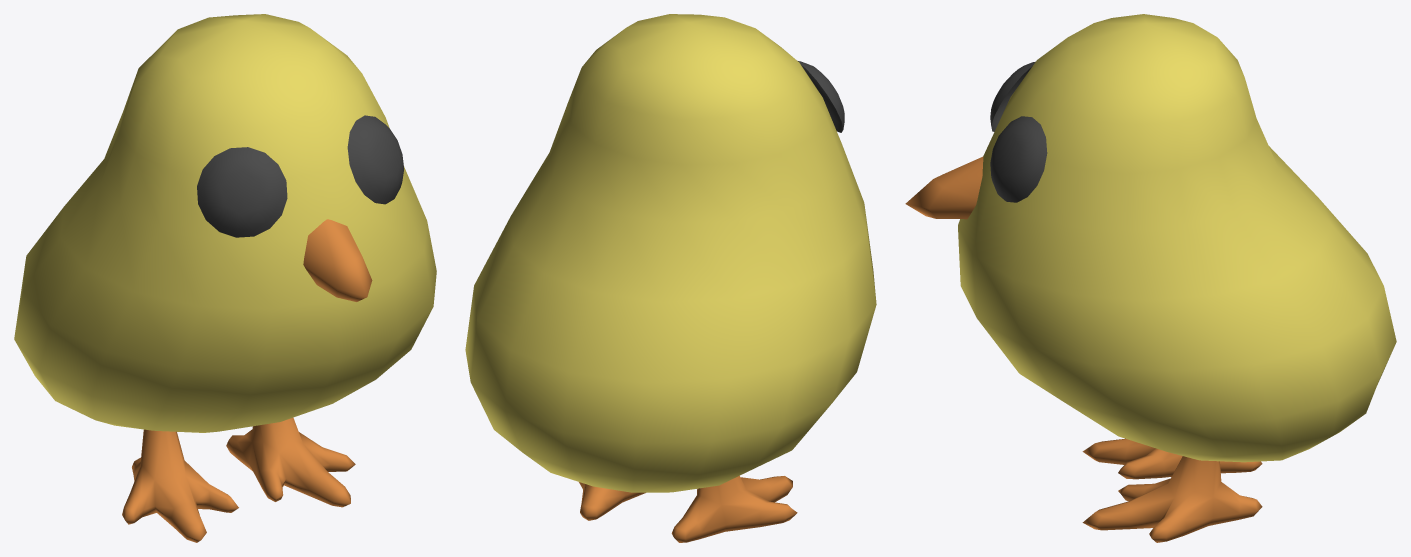
File: Chick (2).fbx
3 views of the same model, side by side, from view 1: azimuth 30°, elevation 25°; view 2: azimuth 150°, elevation 25°; view 3: azimuth 270°, elevation 25° (orthographic). The views are drawn at different scales.
Parts seen in each view (by area): view 1: Chick; view 2: Chick; view 3: Chick.
Part boxes in pixels (x1,y1,x2,y2): Chick: (14,14,436,542); Chick: (465,14,876,542); Chick: (905,14,1396,542).
Size of the model in its own units: 8.02 by 10.4 by 9.8.
